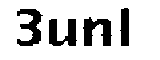3: (11, 5, 43, 52)
I: (119, 1, 134, 54)
n: (80, 13, 116, 52)
u: (47, 15, 81, 56)
